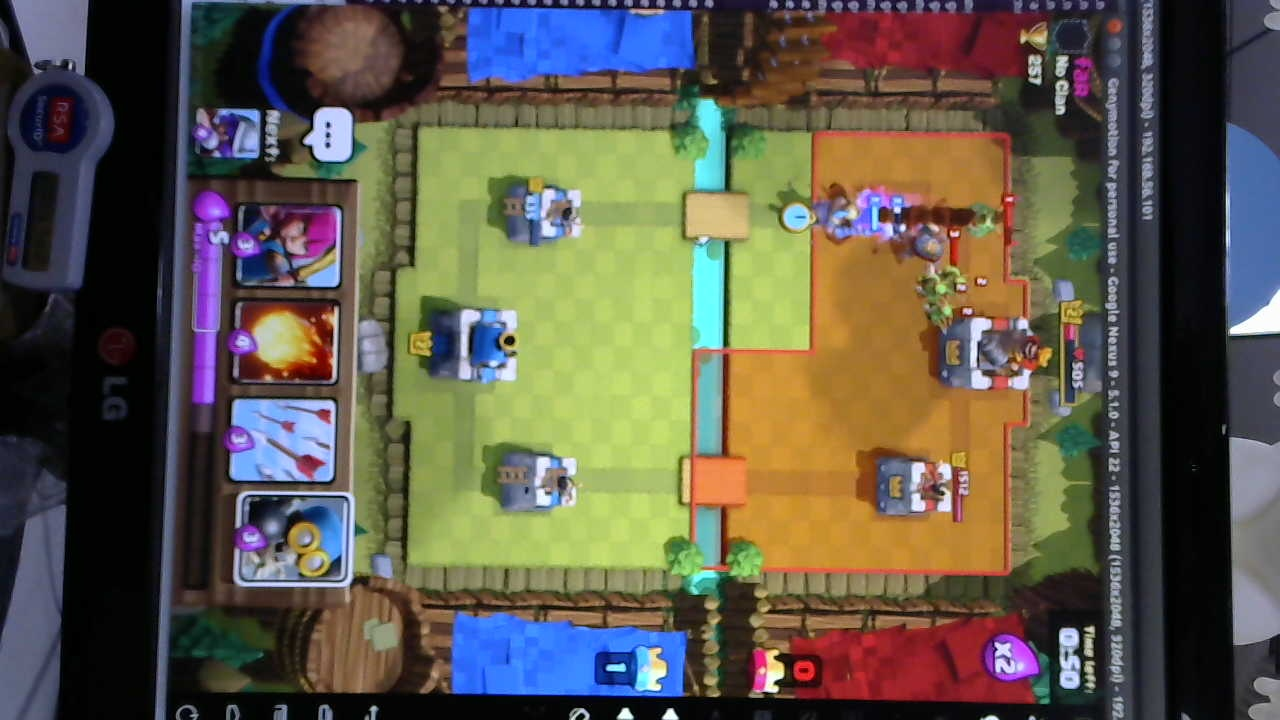arena: (496, 449, 583, 514), (503, 181, 586, 245)
dragon: (958, 200, 1006, 241)
earena: (871, 454, 951, 522)
eking: (935, 315, 1047, 394)
king: (435, 303, 524, 386)
knight: (900, 220, 944, 266)
prince: (801, 194, 866, 238)
speargoblins: (917, 266, 978, 330)
